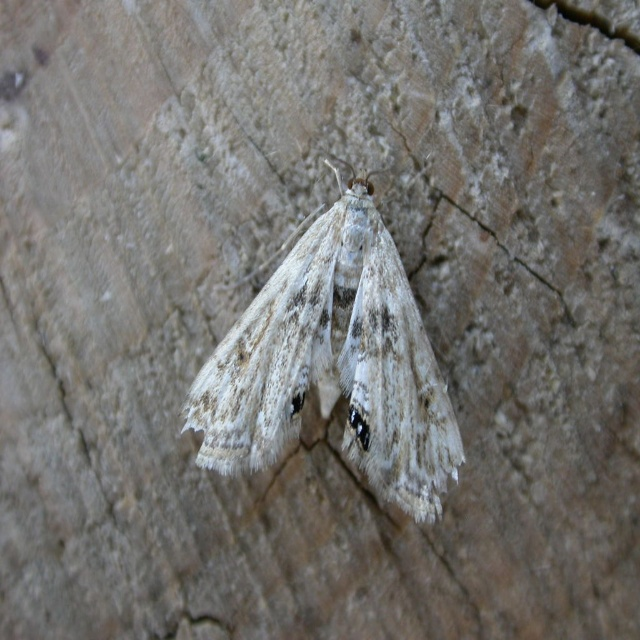Moths and butterflies: (174, 112, 473, 533)
